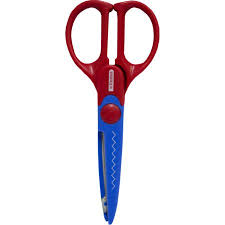tihiras: (57, 1, 165, 225)
